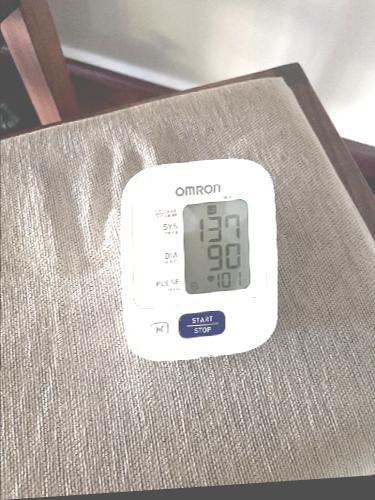bpm: (181, 197, 252, 296)
